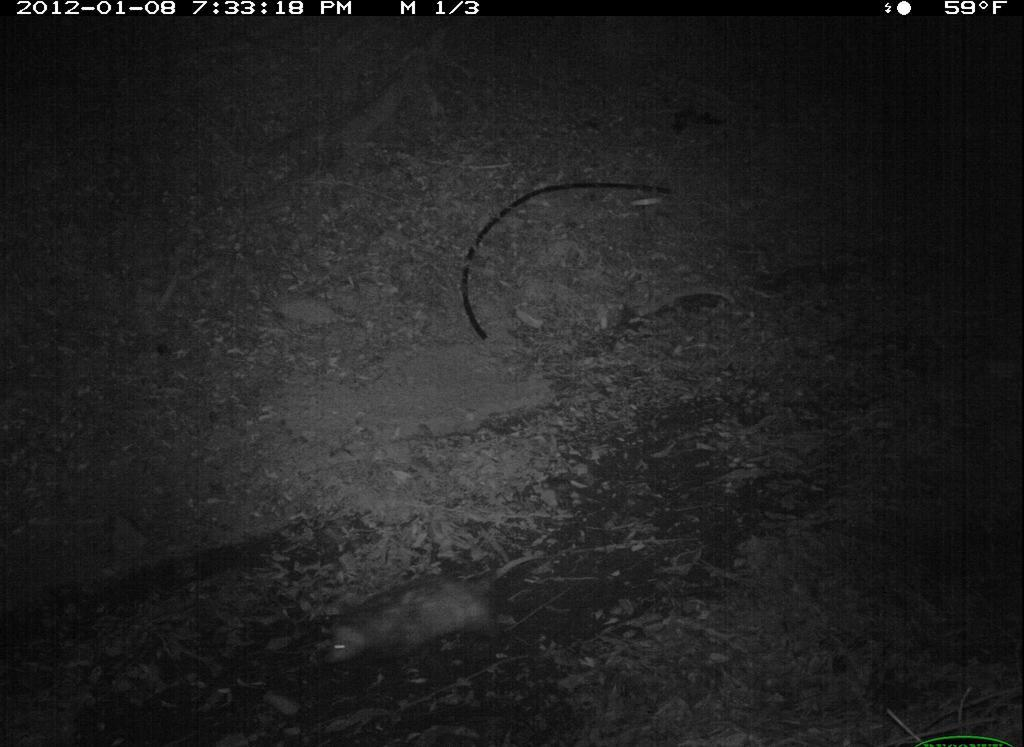opossum: (314, 550, 541, 685)
